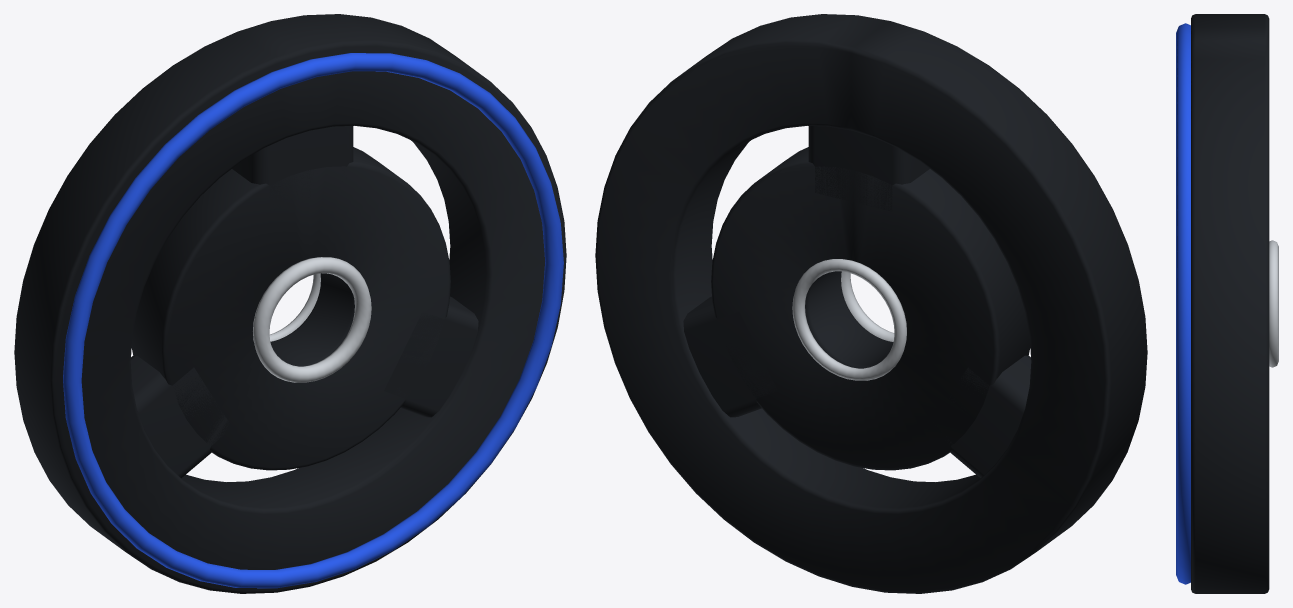
File: plate.glb
3 renders of one model, left to right at view 1: azimuth 30°, elevation 25°; view 2: azimuth 150°, elevation 25°; view 3: azimuth 270°, elevation 25°, orthographic. The views are drawn at different scales.
Visible parts, largest first — view 1: SM_ModelGeometry_LiftGraphite, SM_CobaltOuterLip, SM_ModelGeometry_LiftSilver; view 2: SM_ModelGeometry_LiftGraphite, SM_ModelGeometry_LiftSilver; view 3: SM_ModelGeometry_LiftGraphite, SM_CobaltOuterLip, SM_ModelGeometry_LiftSilver.
Boxes of the visible parts, x1,y1,x2,y2 form: SM_ModelGeometry_LiftGraphite: [14, 14, 566, 593]; SM_CobaltOuterLip: [63, 53, 563, 588]; SM_ModelGeometry_LiftSilver: [253, 257, 371, 382]; SM_ModelGeometry_LiftGraphite: [595, 14, 1147, 593]; SM_ModelGeometry_LiftSilver: [792, 259, 906, 380]; SM_ModelGeometry_LiftGraphite: [1191, 14, 1269, 593]; SM_CobaltOuterLip: [1176, 23, 1190, 584]; SM_ModelGeometry_LiftSilver: [1269, 240, 1278, 367].
Size of the model in its own units: 2 by 2 by 0.354.
